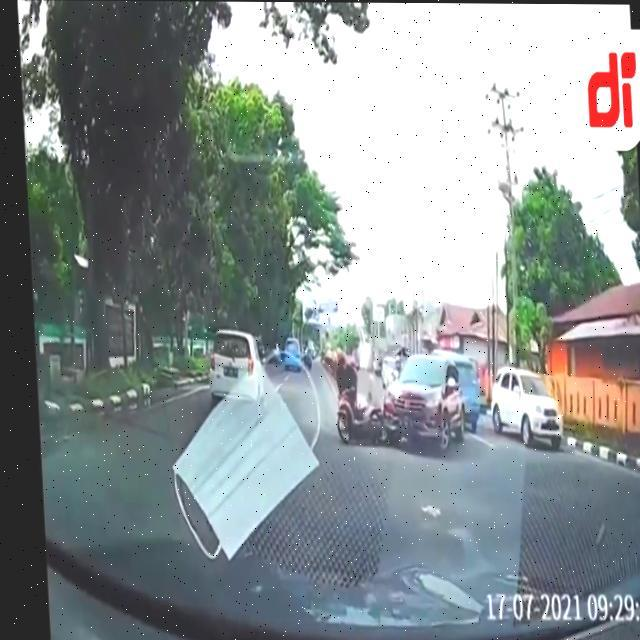multiple_accident: (306, 300, 468, 478)
normal: (470, 346, 583, 458), (182, 309, 276, 417)
